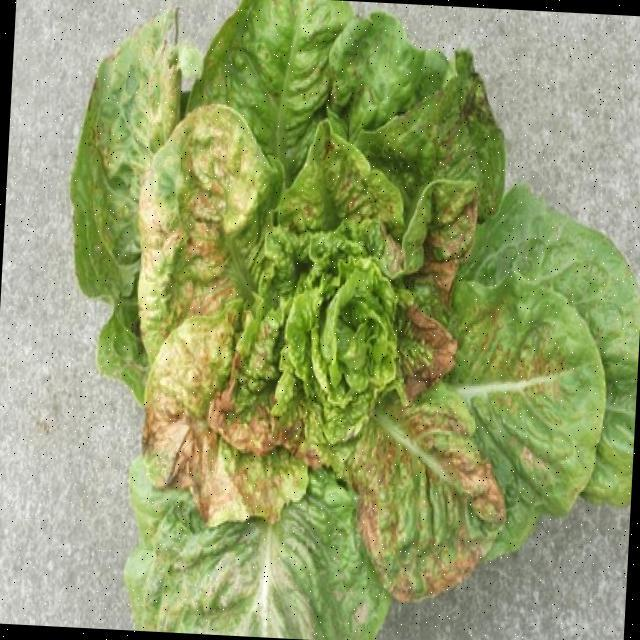Bacterial: (172, 119, 482, 492)
